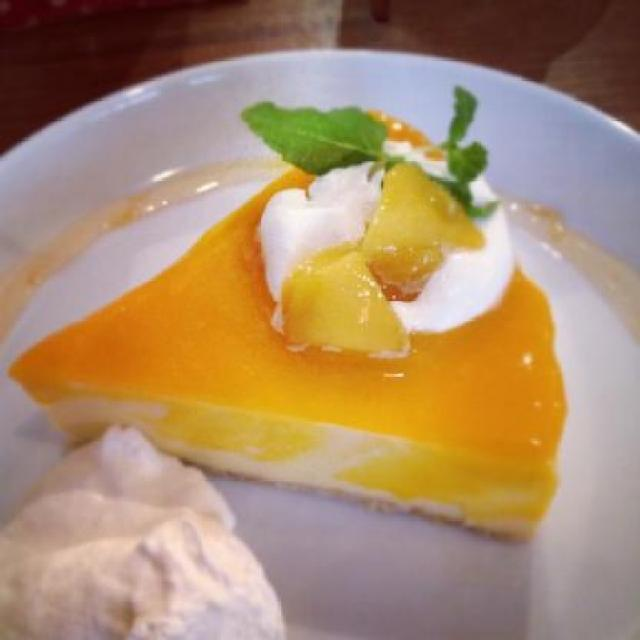Rare cheese cake: (3, 83, 640, 554)
